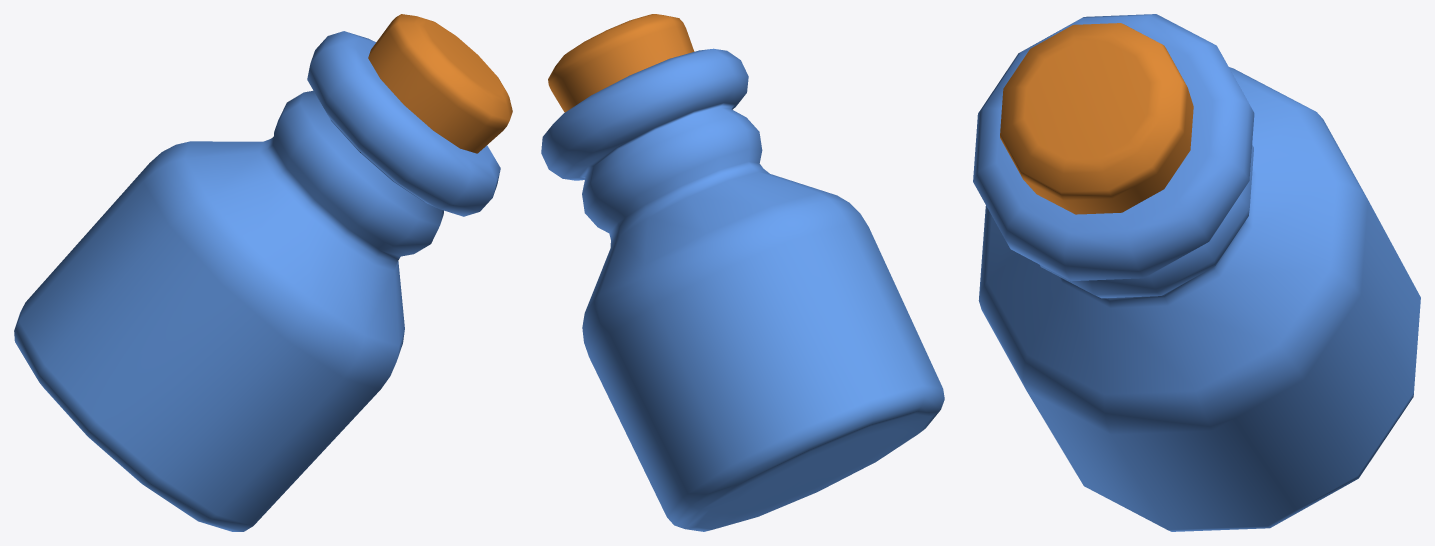
The picture shows the model from 3 angles, left to right: view 1: azimuth 30°, elevation 25°; view 2: azimuth 150°, elevation 25°; view 3: azimuth 270°, elevation 25°; orthographic projection. The views are drawn at different scales.
Visible parts, largest first — view 1: model_1.127; view 2: model_1.127; view 3: model_1.127.
Boxes of the visible parts, x1=… form: model_1.127: x1=14, y1=14, x2=512, y2=531; model_1.127: x1=541, y1=14, x2=944, y2=531; model_1.127: x1=973, y1=14, x2=1420, y2=531.
Size of the model in its own units: 4.07 by 4.34 by 3.
